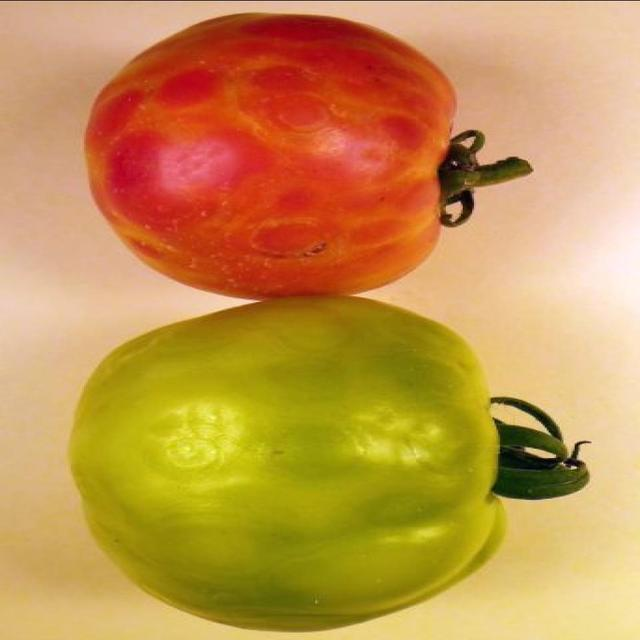Spotted wilt Virus Fruit: (264, 23, 332, 330)
